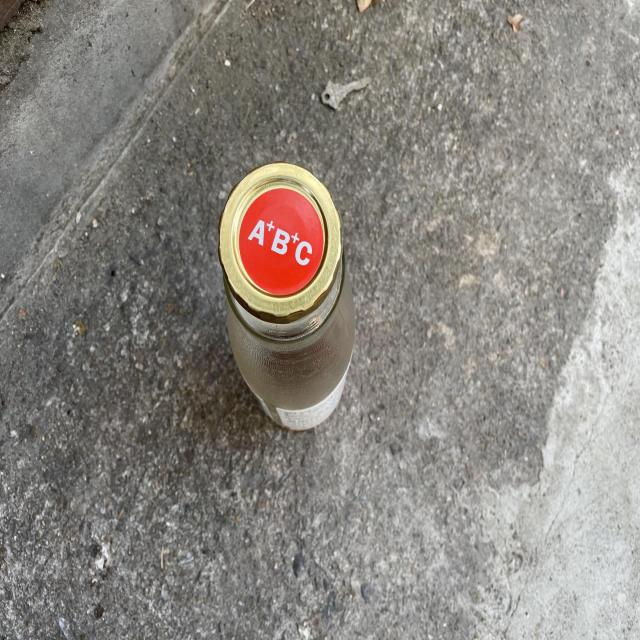glass: (218, 162, 355, 430)
